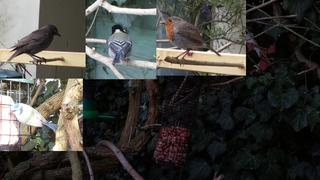blue tit: (9, 103, 59, 131)
great tit: (107, 24, 132, 66)
robin: (159, 16, 222, 68)
starling: (7, 24, 62, 65)
